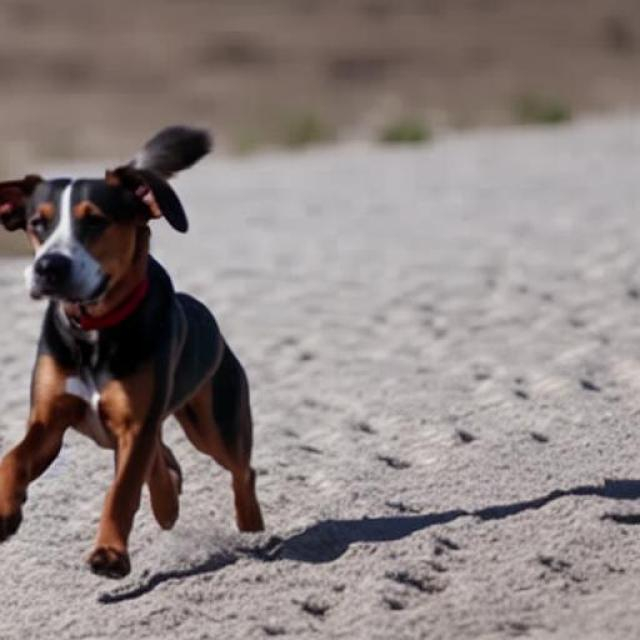Dog: (0, 125, 266, 578)
